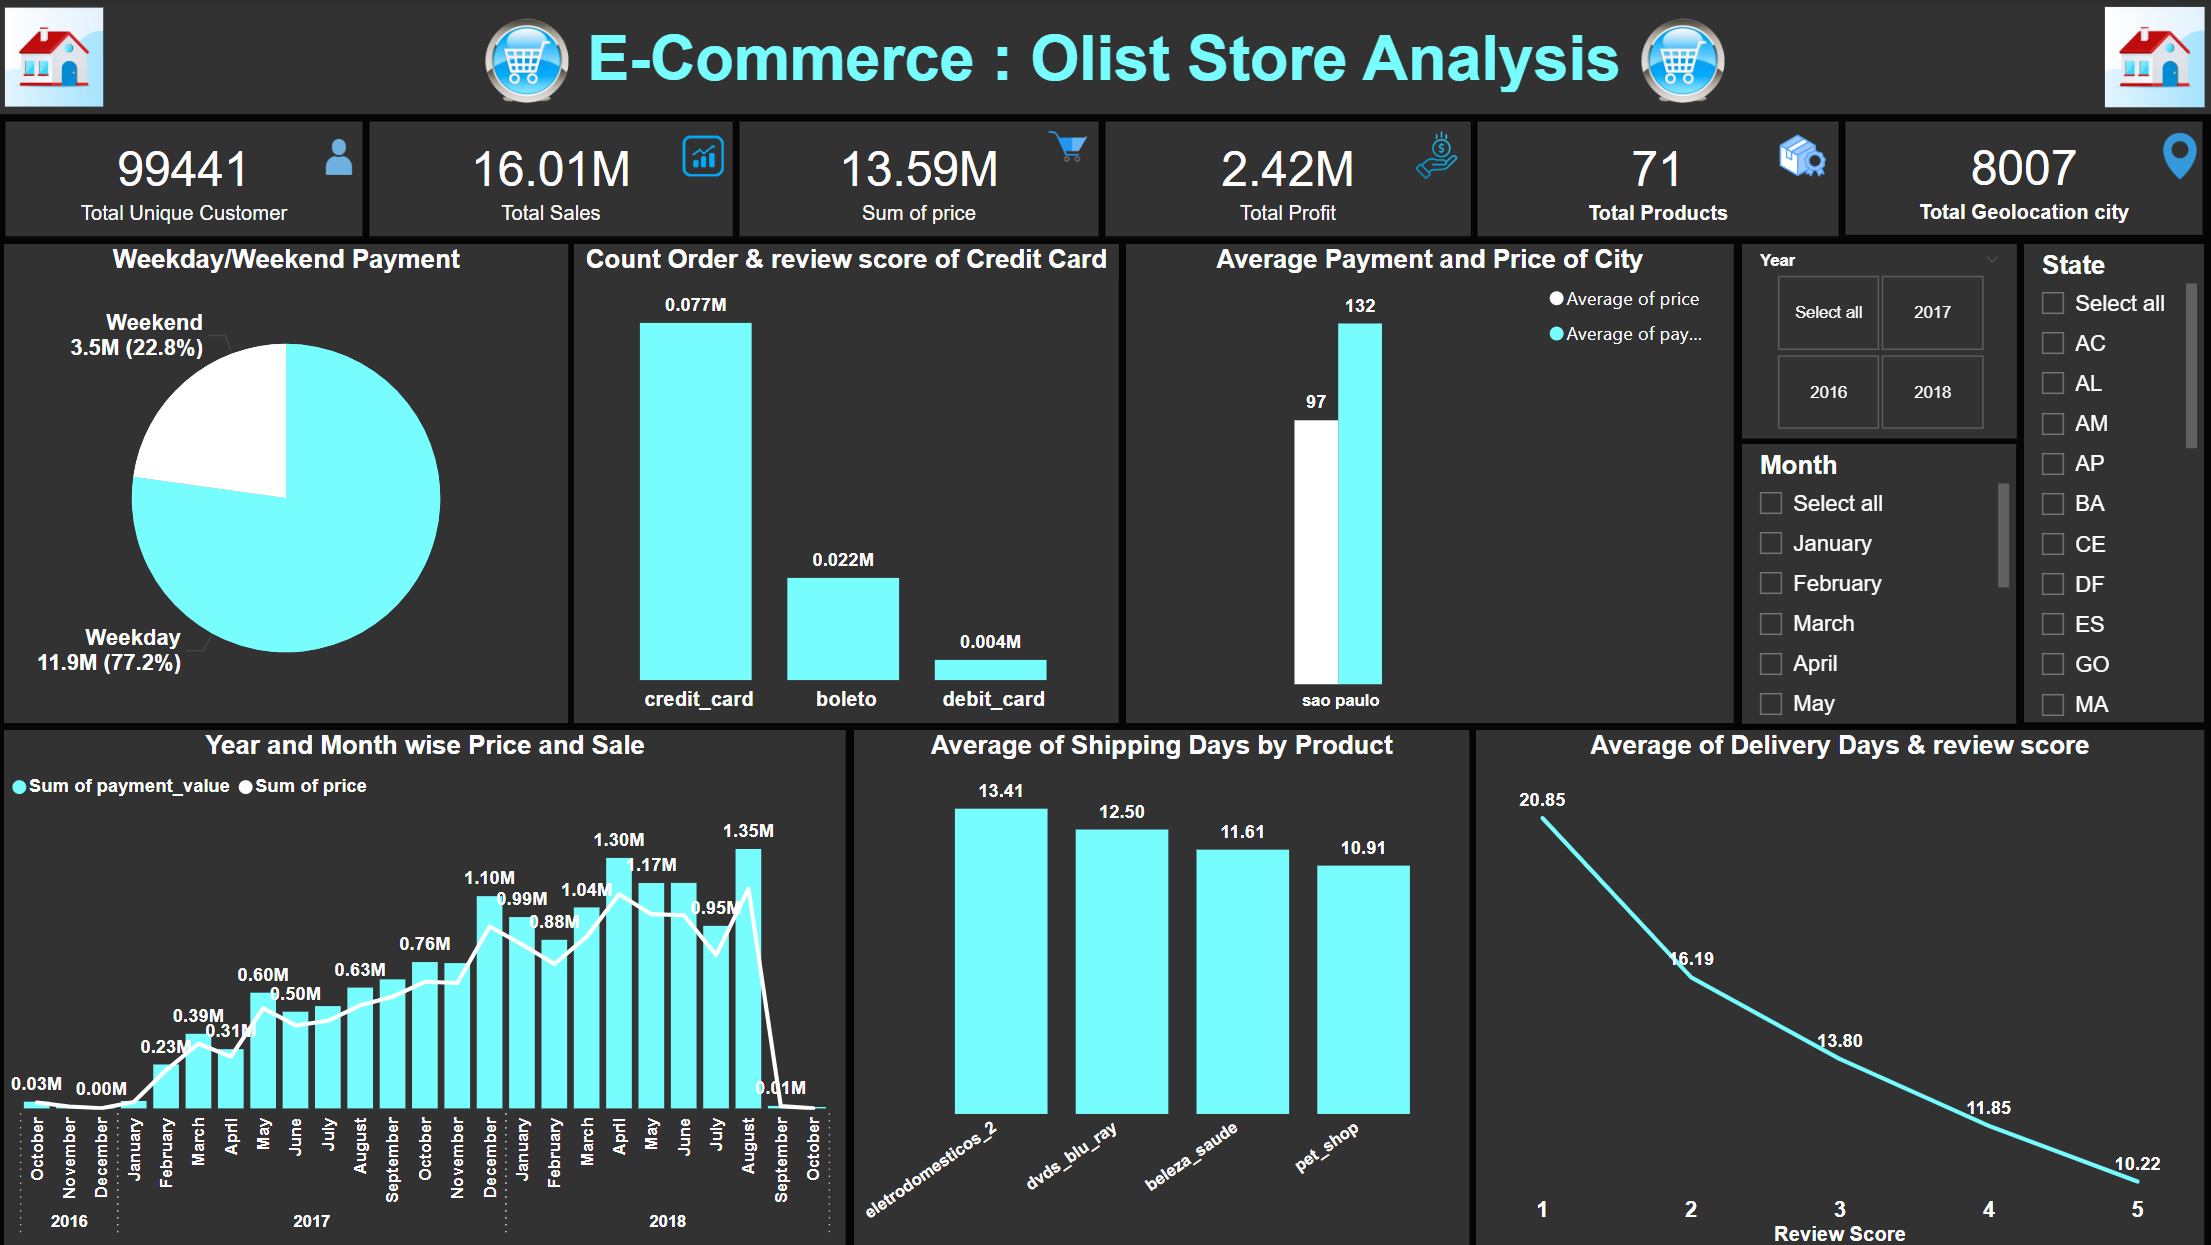

Layout of this report page (visuals, bound fields, positions):
{"tool":"powerbi","page":{"name":"Page 4","canvas":[1600,900],"ordinal":0},"visuals":[{"type":"lineStackedColumnComboChart","title":"Year and Month wise Price and Sale","fields":{"Category":["Orders_dataset.order_delivered_customer_date.Variation.Date Hierarchy.Year","Orders_dataset.order_delivered_customer_date.Variation.Date Hierarchy.Month"],"Y":["Sum(Order_payments_dataset.payment_value)"],"Y2":["Sum(Order_items_dataset.price)"]},"box":[5.8,527.3,608.2,374.2],"z":0},{"type":"pieChart","title":" Weekday/Weekend Payment ","fields":{"Category":["Orders_dataset.Weekday/Weekend"],"Y":["Sum(Order_payments_dataset.payment_value)"]},"box":[5.3,175.6,407.5,346],"z":1000},{"type":"columnChart","title":"Count Order & review score of Credit Card","fields":{"Category":["Order_payments_dataset.payment_type"],"Y":["CountNonNull(Order_reviews_dataset.review_score)"]},"box":[418,175.6,393.4,346],"z":2000},{"type":"columnChart","title":"Average of Shipping Days by Product","fields":{"Category":["Products_dataset.product_category_name"],"Y":["Avg(Orders_dataset.Delivery Days)"]},"box":[620,526.9,444.3,372.3],"z":3000},{"type":"clusteredColumnChart","title":"Average Payment and Price  of City","fields":{"Y":["Avg(Order_items_dataset.price)","Avg(Order_payments_dataset.payment_value)"],"Category":["olist_geolocation_dataset.geolocation_city"]},"box":[816.7,175.6,439.1,346],"z":4000},{"type":"lineChart","title":"Average of Delivery Days & review score","fields":{"Category":["Order_reviews_dataset.review_score"],"Y":["Avg(Orders_dataset.Delivery Days)"]},"box":[1069,527.3,525.8,377],"z":5000},{"type":"shape","title":"E-Commerce : Olist Store Analysis","box":[0,0,1600.6,82.3],"z":6000},{"type":"card","fields":{"Values":["CountNonNull(Customers_dataset.customer_unique_id)"]},"box":[5.8,86.7,260,85.2],"z":7000},{"type":"card","fields":{"Values":["Sum(Order_payments_dataset.payment_value)"]},"box":[268.7,86.7,264.4,85.2],"z":8000},{"type":"card","fields":{"Values":["Sum(Order_items_dataset.price)"]},"box":[536,86.7,261.5,85.2],"z":9000},{"type":"card","fields":{"Values":["Customers_dataset.Total_profit"]},"box":[800.3,86.7,265.8,85.2],"z":10000},{"type":"card","fields":{"Values":["Count(olist_geolocation_dataset.geolocation_city)"]},"box":[1334.8,86.7,260,83.8],"z":11000},{"type":"image","box":[1560.2,91,34.7,43.3],"z":12000},{"type":"image","box":[229.7,93.9,36.1,39],"z":13000},{"type":"image","box":[488.3,86.7,44.8,52],"z":14000},{"type":"image","box":[1012.7,83.8,56.3,56.3],"z":15000},{"type":"image","box":[751.2,78,46.2,54.9],"z":16000},{"type":"card","fields":{"Values":["CountNonNull(product_category_name_translation.product_category_name_english)"]},"box":[1069,86.7,262.9,85.2],"z":17000},{"type":"image","box":[1275.6,79.5,60.7,65],"z":18000},{"type":"image","box":[294.7,0,176.2,82.3],"z":19000},{"type":"image","box":[1129.7,0,176.2,82.3],"z":20000},{"type":"image","box":[1.4,0,80.9,82.3],"z":21000},{"type":"image","box":[1518.3,0,82.3,82.3],"z":22000},{"type":"slicer","fields":{"Values":["olist_geolocation_dataset.geolocation_state"]},"box":[1464.8,176.2,130,345.3],"z":23000},{"type":"slicer","fields":{"Values":["Orders_dataset.order_delivered_customer_date.Variation.Date Hierarchy.Month"]},"box":[1261.2,320.7,197.9,202.2],"z":24000},{"type":"slicer","fields":{"Values":["Orders_dataset.order_delivered_customer_date.Variation.Date Hierarchy.Year"]},"box":[1261,175.6,198.5,140.5],"z":24001}]}

Visuals, with their boxes in screenshot pixels (x1, y1, x2, y2), scaled from the page's 1600x900 canvas onto the 2211x1245 screenshot:
"Year and Month wise Price and Sale" lineStackedColumnComboChart: <box>8,729,848,1244</box>
" Weekday/Weekend Payment " pieChart: <box>7,243,570,722</box>
"Count Order & review score of Credit Card" columnChart: <box>578,243,1121,722</box>
"Average of Shipping Days by Product" columnChart: <box>857,729,1471,1244</box>
"Average Payment and Price  of City" clusteredColumnChart: <box>1129,243,1735,722</box>
"Average of Delivery Days & review score" lineChart: <box>1477,729,2204,1244</box>
"E-Commerce : Olist Store Analysis" shape: <box>0,0,2210,114</box>
card - CountNonNull(Customers_dataset.customer_unique_id): <box>8,120,367,238</box>
card - Sum(Order_payments_dataset.payment_value): <box>371,120,737,238</box>
card - Sum(Order_items_dataset.price): <box>741,120,1102,238</box>
card - Customers_dataset.Total_profit: <box>1106,120,1473,238</box>
card - Count(olist_geolocation_dataset.geolocation_city): <box>1845,120,2204,236</box>
image: <box>2156,126,2204,186</box>
image: <box>317,130,367,184</box>
image: <box>675,120,737,192</box>
image: <box>1399,116,1477,194</box>
image: <box>1038,108,1102,184</box>
card - CountNonNull(product_category_name_translation.product_category_name_english): <box>1477,120,1841,238</box>
image: <box>1763,110,1847,200</box>
image: <box>407,0,651,114</box>
image: <box>1561,0,1805,114</box>
image: <box>2,0,114,114</box>
image: <box>2098,0,2210,114</box>
slicer - olist_geolocation_dataset.geolocation_state: <box>2024,244,2204,721</box>
slicer - Orders_dataset.order_delivered_customer_date.Variation.Date Hierarchy.Month: <box>1743,444,2016,723</box>
slicer - Orders_dataset.order_delivered_customer_date.Variation.Date Hierarchy.Year: <box>1743,243,2017,437</box>
